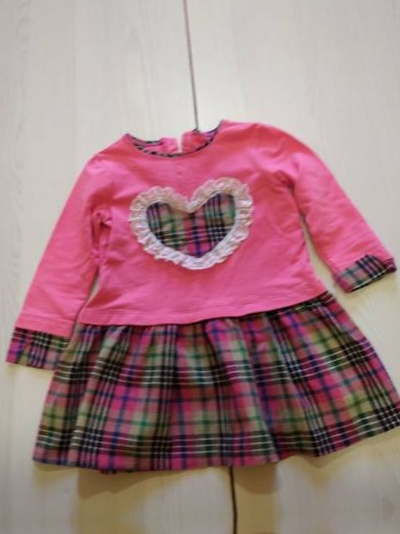Dress: (18, 99, 400, 491)
